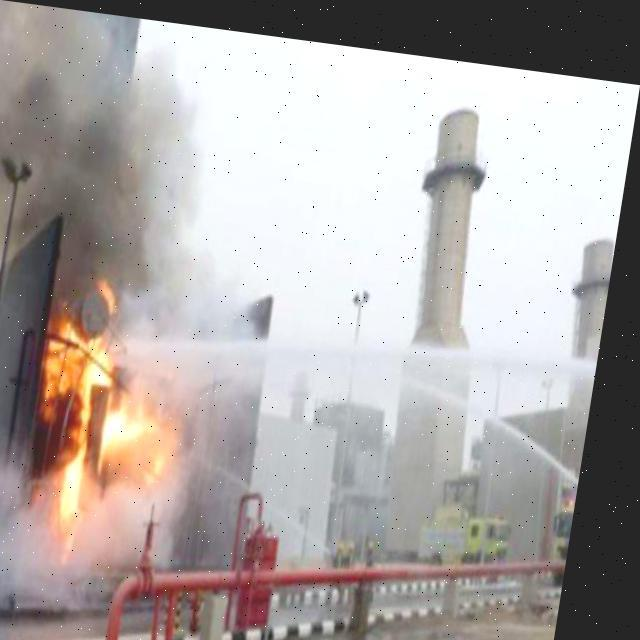Fire: (33, 287, 215, 565)
